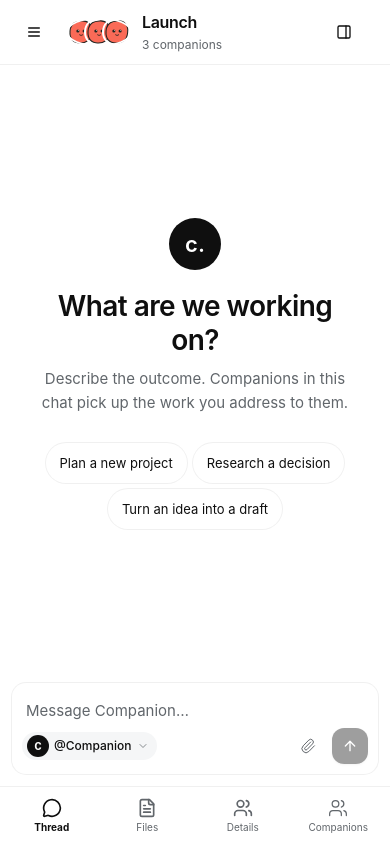
Test: discussions workspace › opens later and removed participant workspaces from the mobile picker
Type "A draft for Central" into the text box labelled "Message Companion" at (195, 710), box [22,693,368,728]
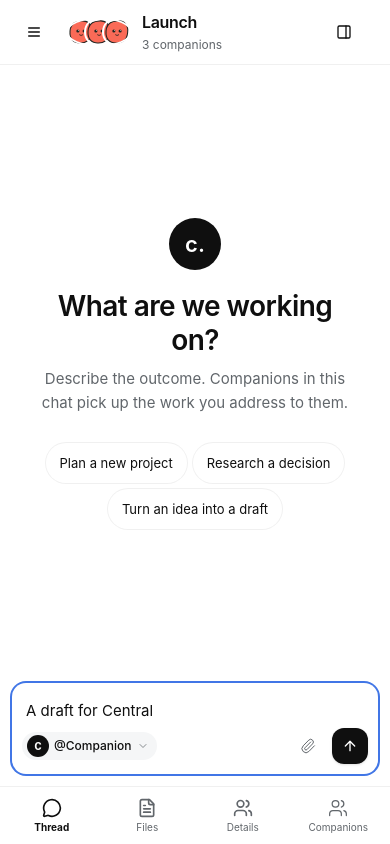
Click the heading named "Choose conversation companion" at (338, 815), box [308,798,368,832]
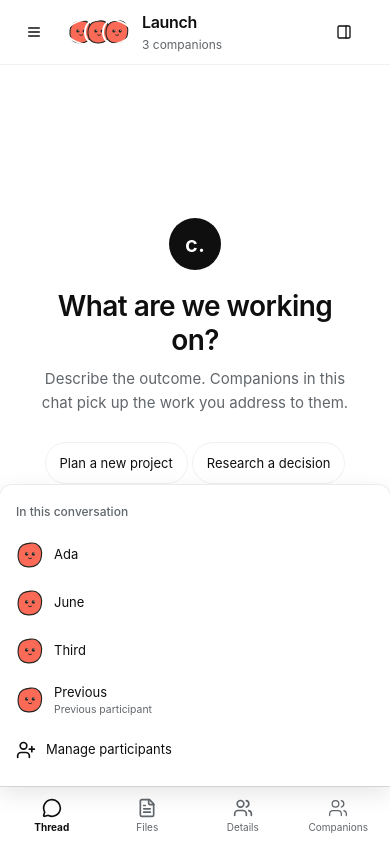
Click the button with aria-label "View Third workspace" at (70, 650), box [8,627,382,675]
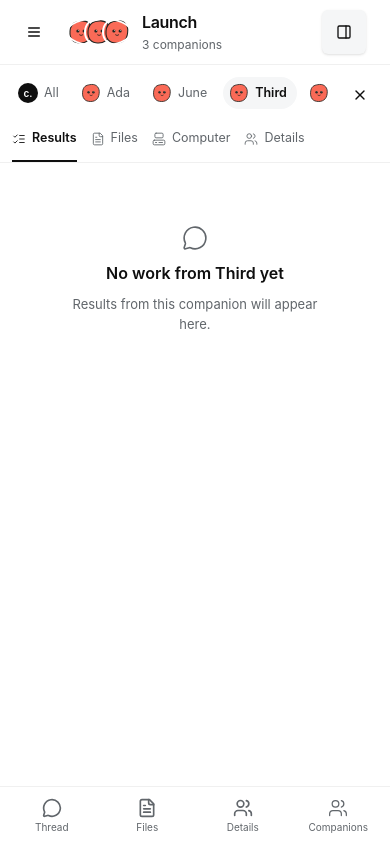
Expected: the element named "Third workspace" is shown
Click the heading named "Choose conversation companion" at (338, 815), box [308,798,368,832]
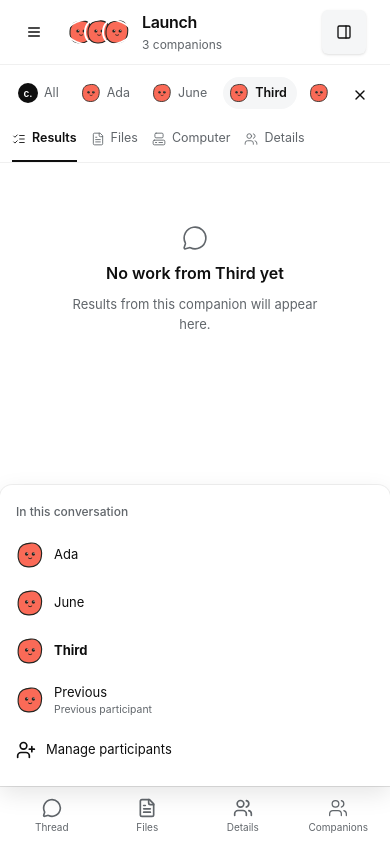
Click the button with aria-label "View Previous workspace" at (81, 692), box [8,675,382,726]
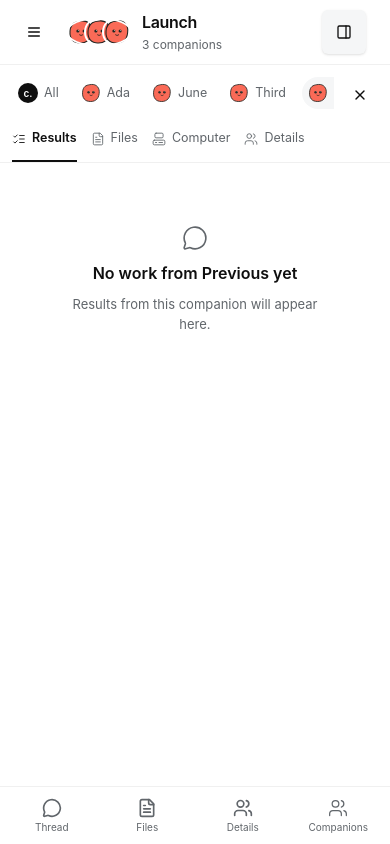
Expected: the element named "Previous workspace" is shown
